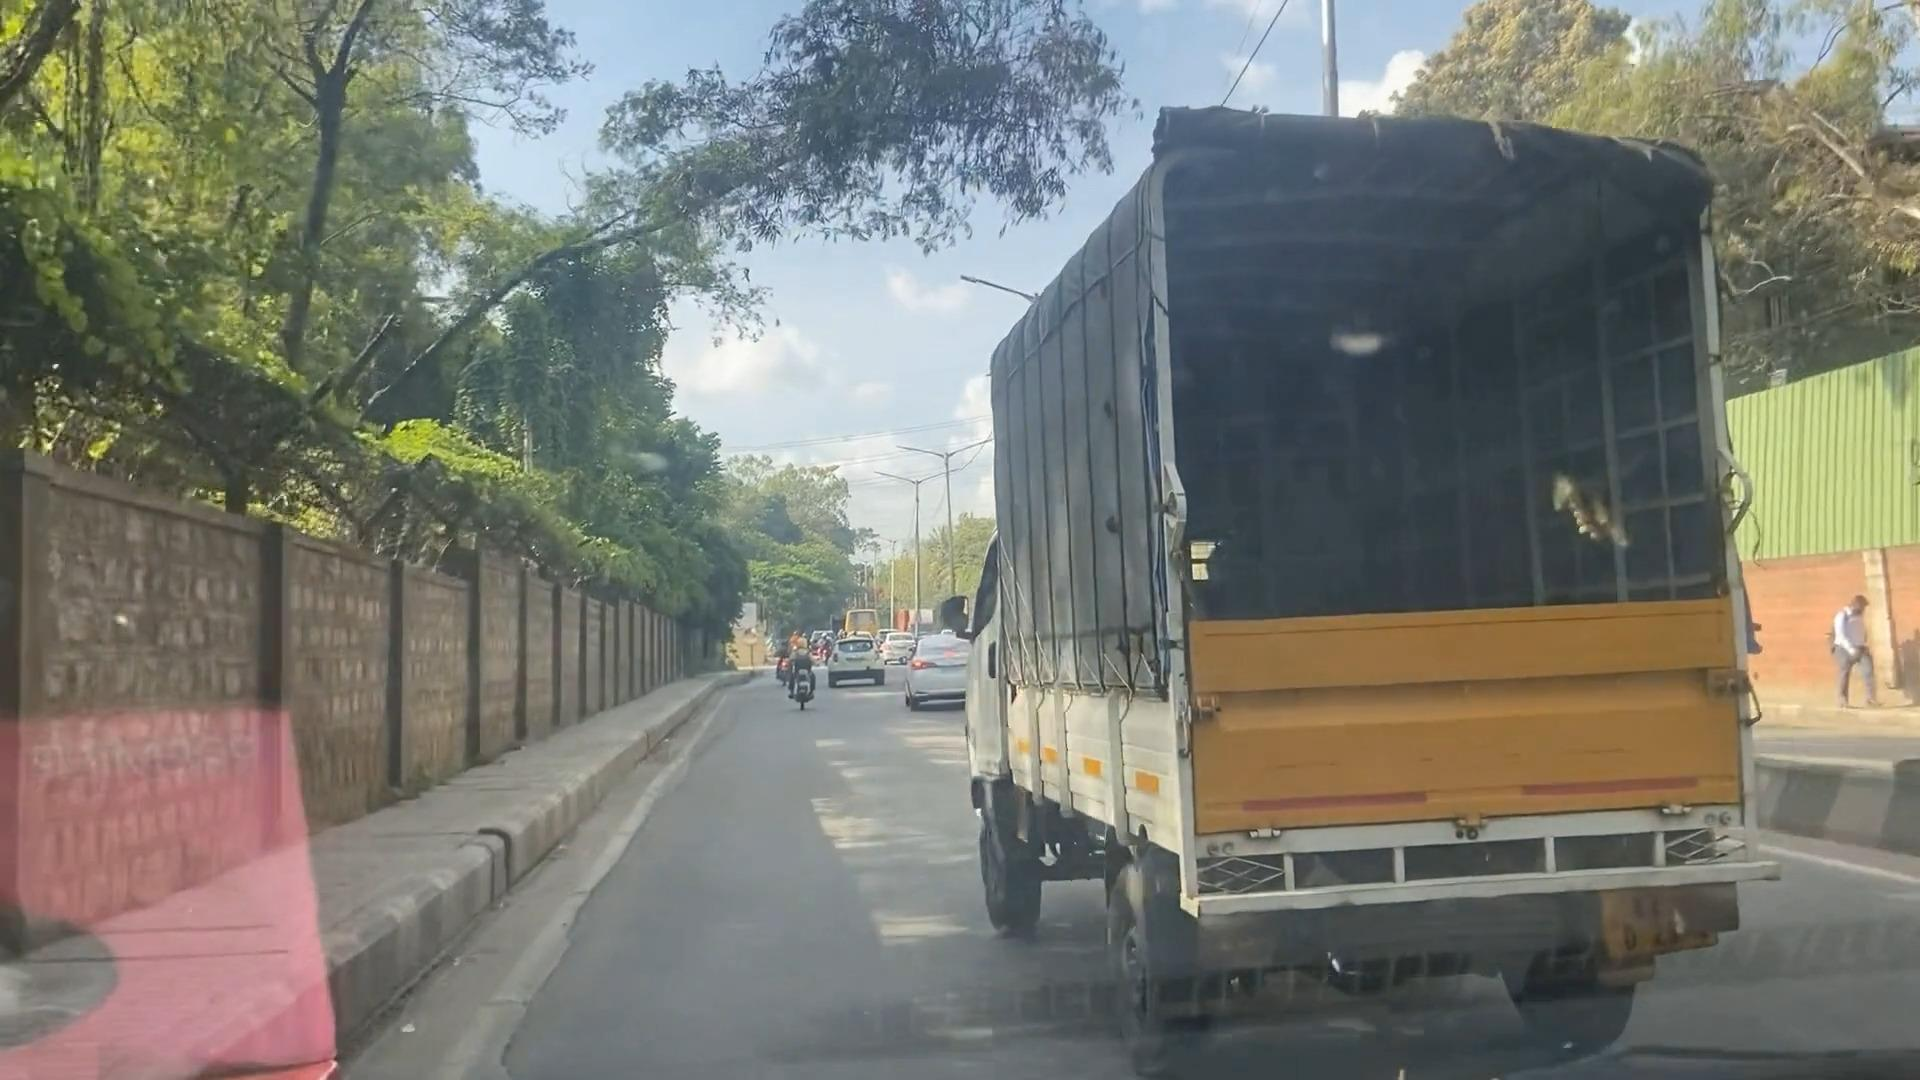HMV: (976, 79, 1817, 1071)
